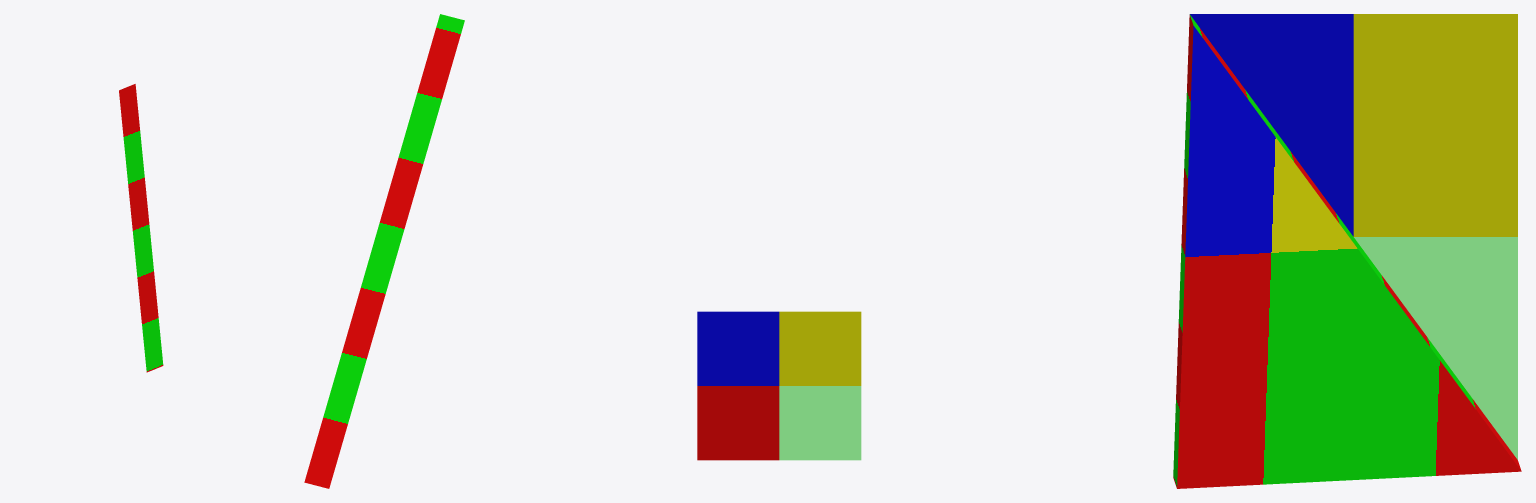
Rendered from edited.glb.
The picture shows the model from 3 angles, left to right: view 1: azimuth 30°, elevation 25°; view 2: azimuth 150°, elevation 25°; view 3: azimuth 270°, elevation 25°; orthographic projection. The views are drawn at different scales.
Visible parts, largest first — view 1: Panel A; view 2: Panel A; view 3: Panel A, Panel B.
Boxes of the visible parts, x1,y1,x2,y2 form: Panel A: (119, 84, 163, 372); Panel A: (304, 14, 464, 488); Panel A: (1173, 14, 1521, 488); Panel B: (697, 311, 861, 460).
Size of the model in its own units: 0.448 by 3.02 by 5.02.
2 materials, 2 textured.
